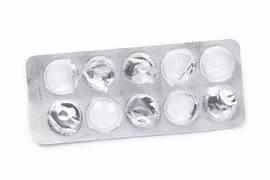pill_Strip: (26, 40, 244, 144)
